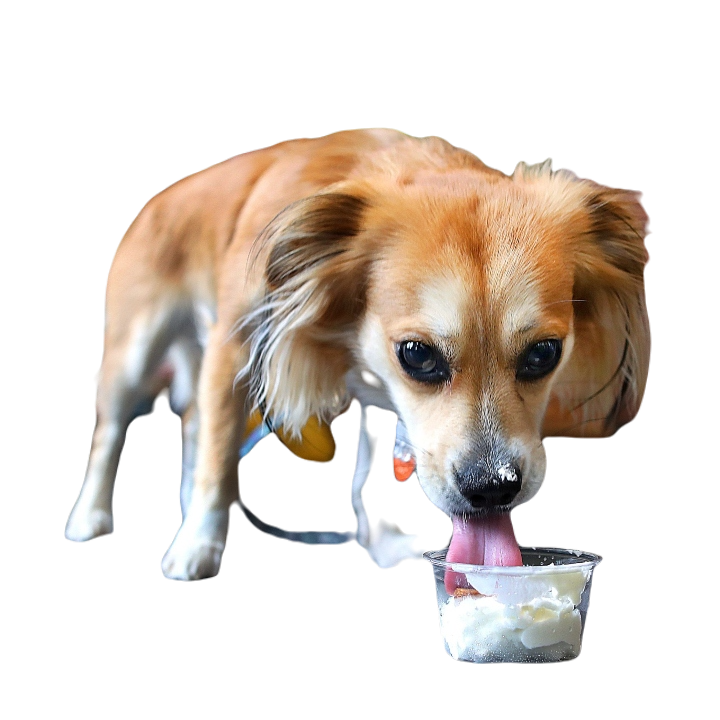Dog: (62, 125, 656, 579)
